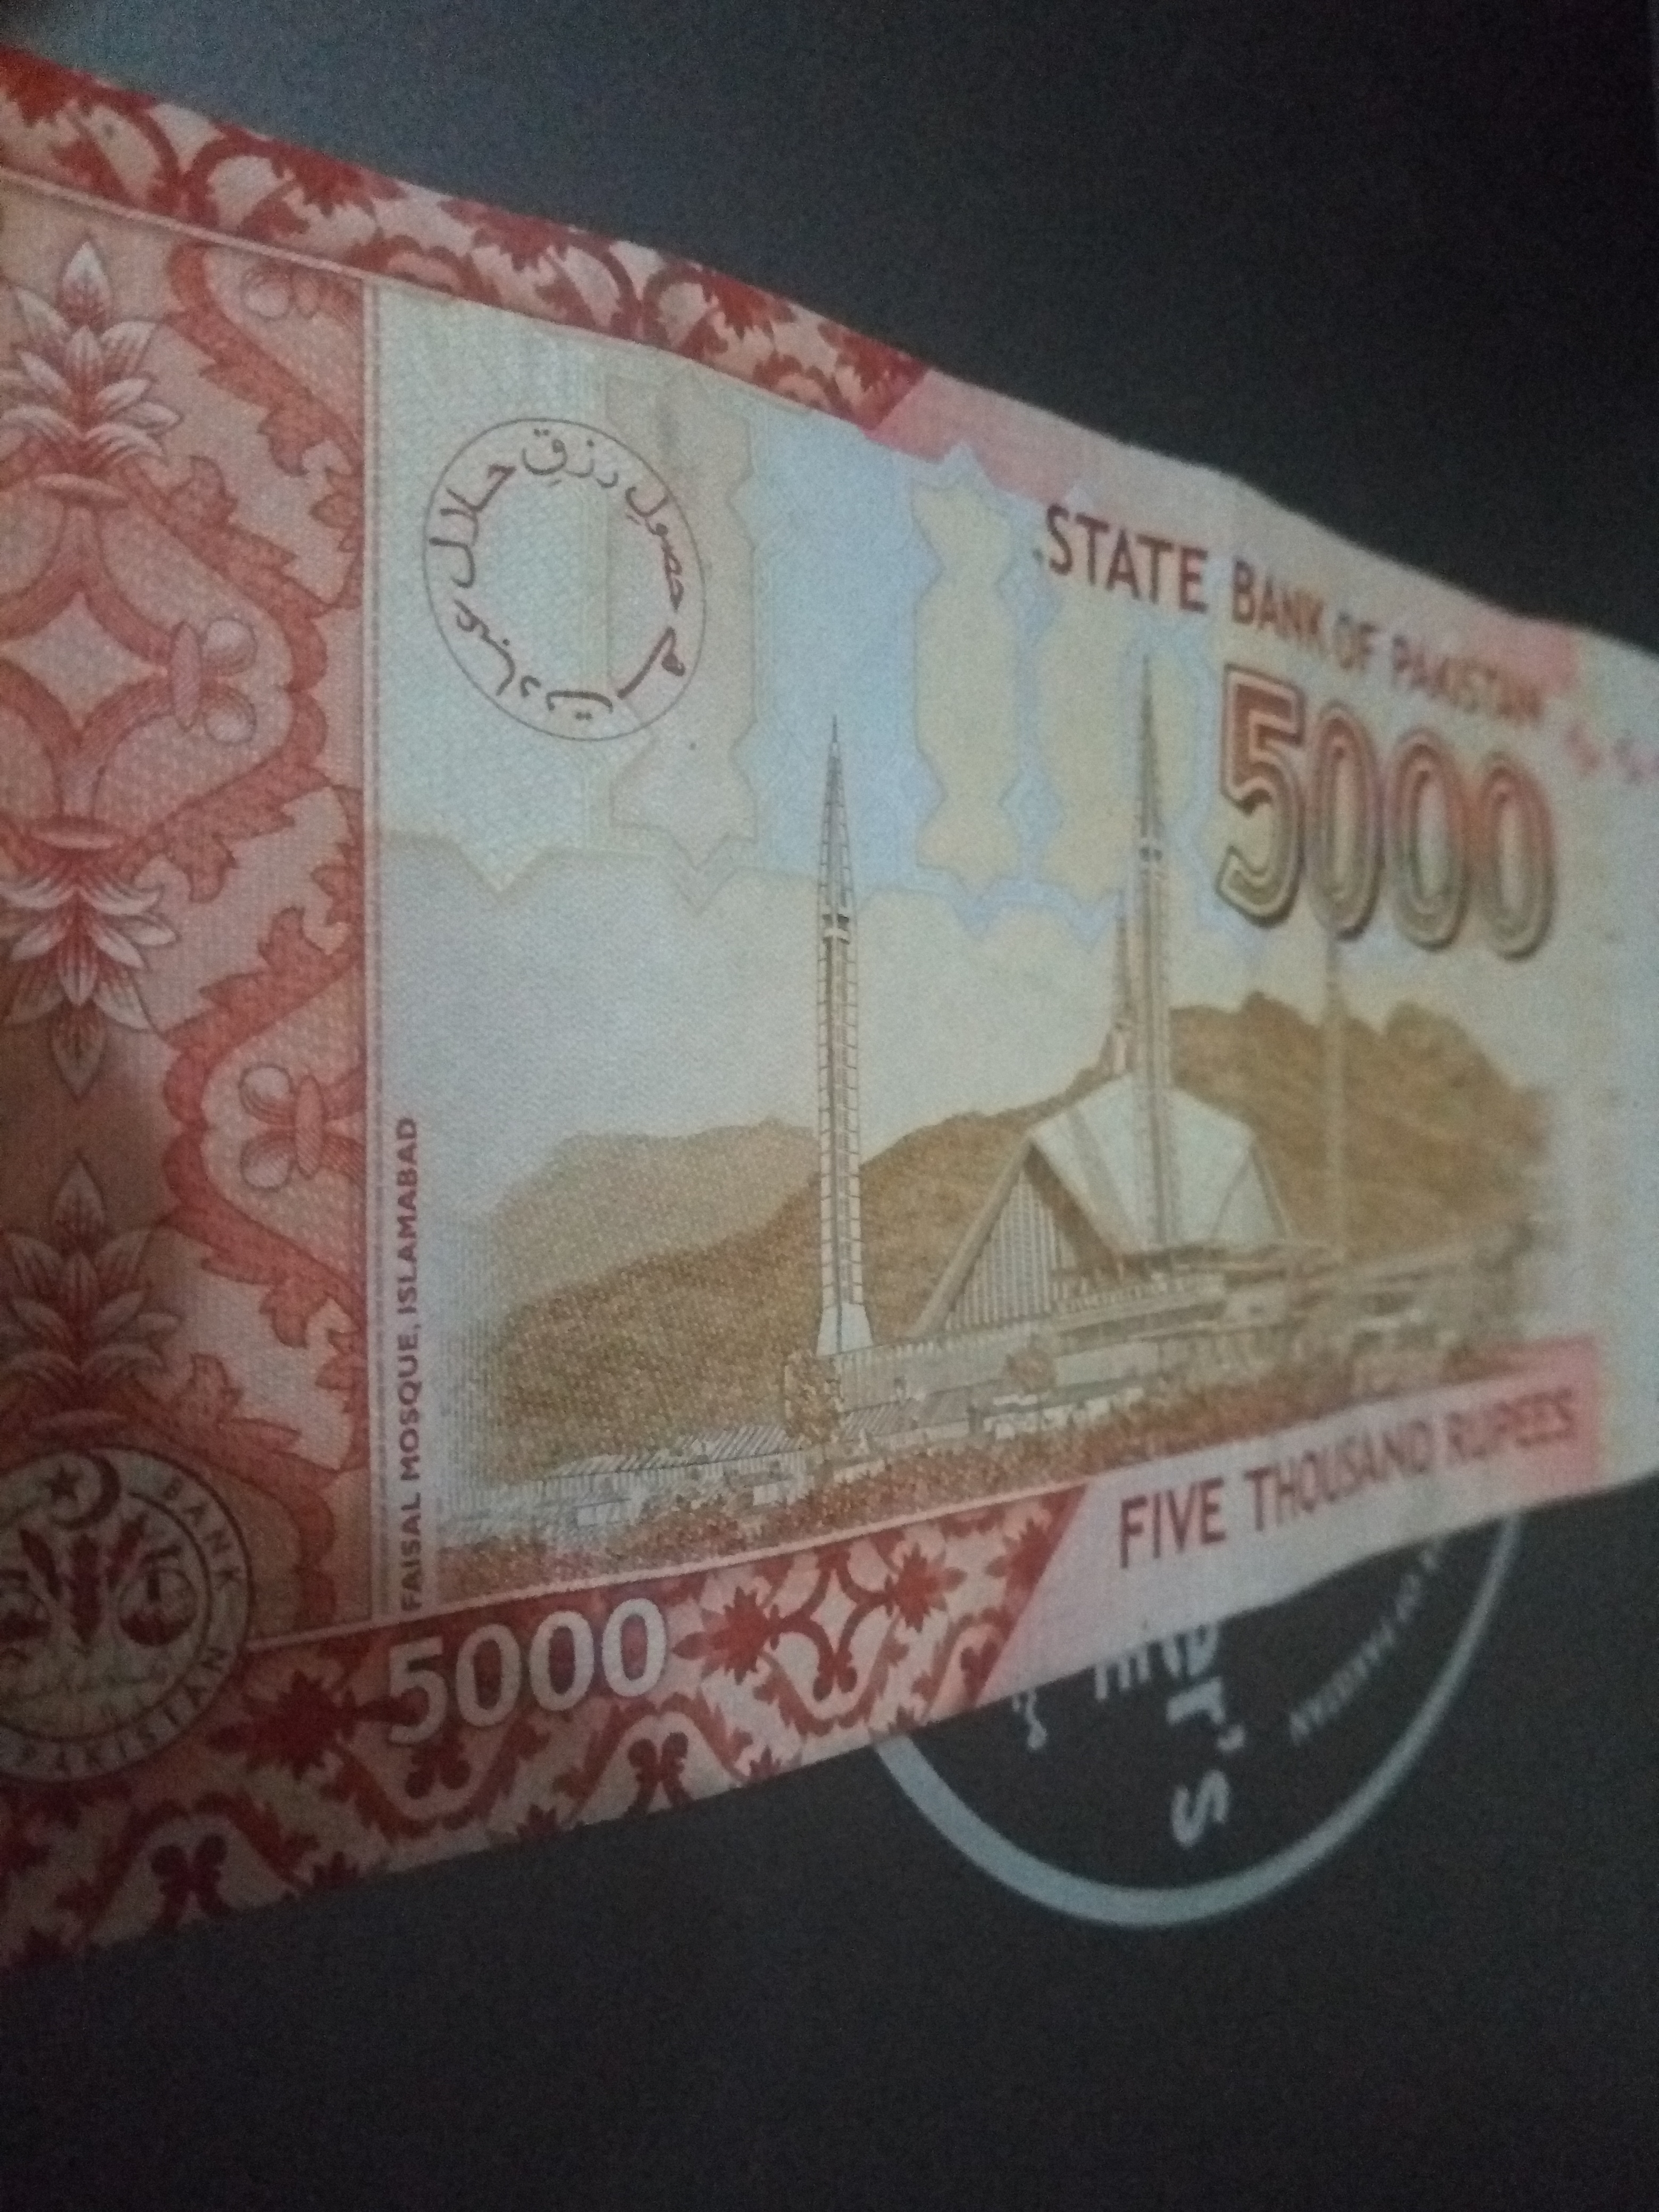5000 rupee: (10, 47, 1643, 2013)
